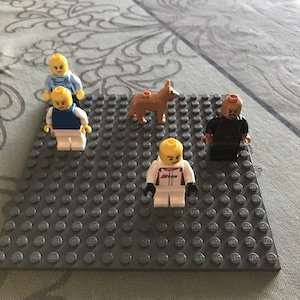Lego: (143, 138, 194, 212), (201, 93, 250, 162), (40, 85, 88, 152), (39, 53, 85, 117)
